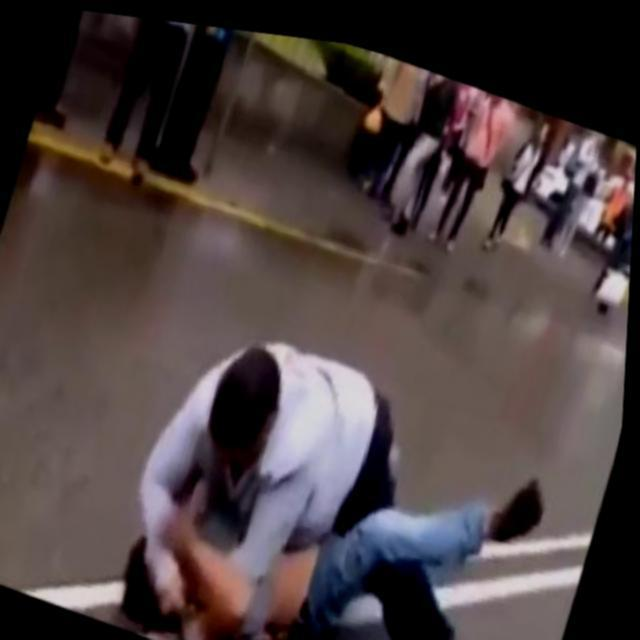fight: (104, 275, 585, 640)
